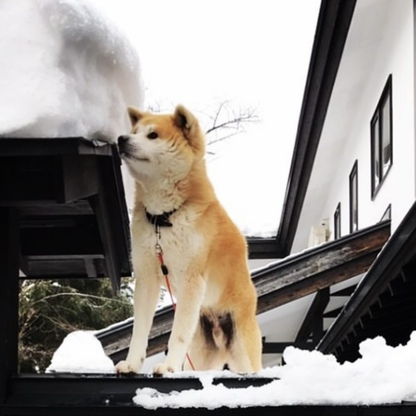akita: (103, 96, 271, 382)
